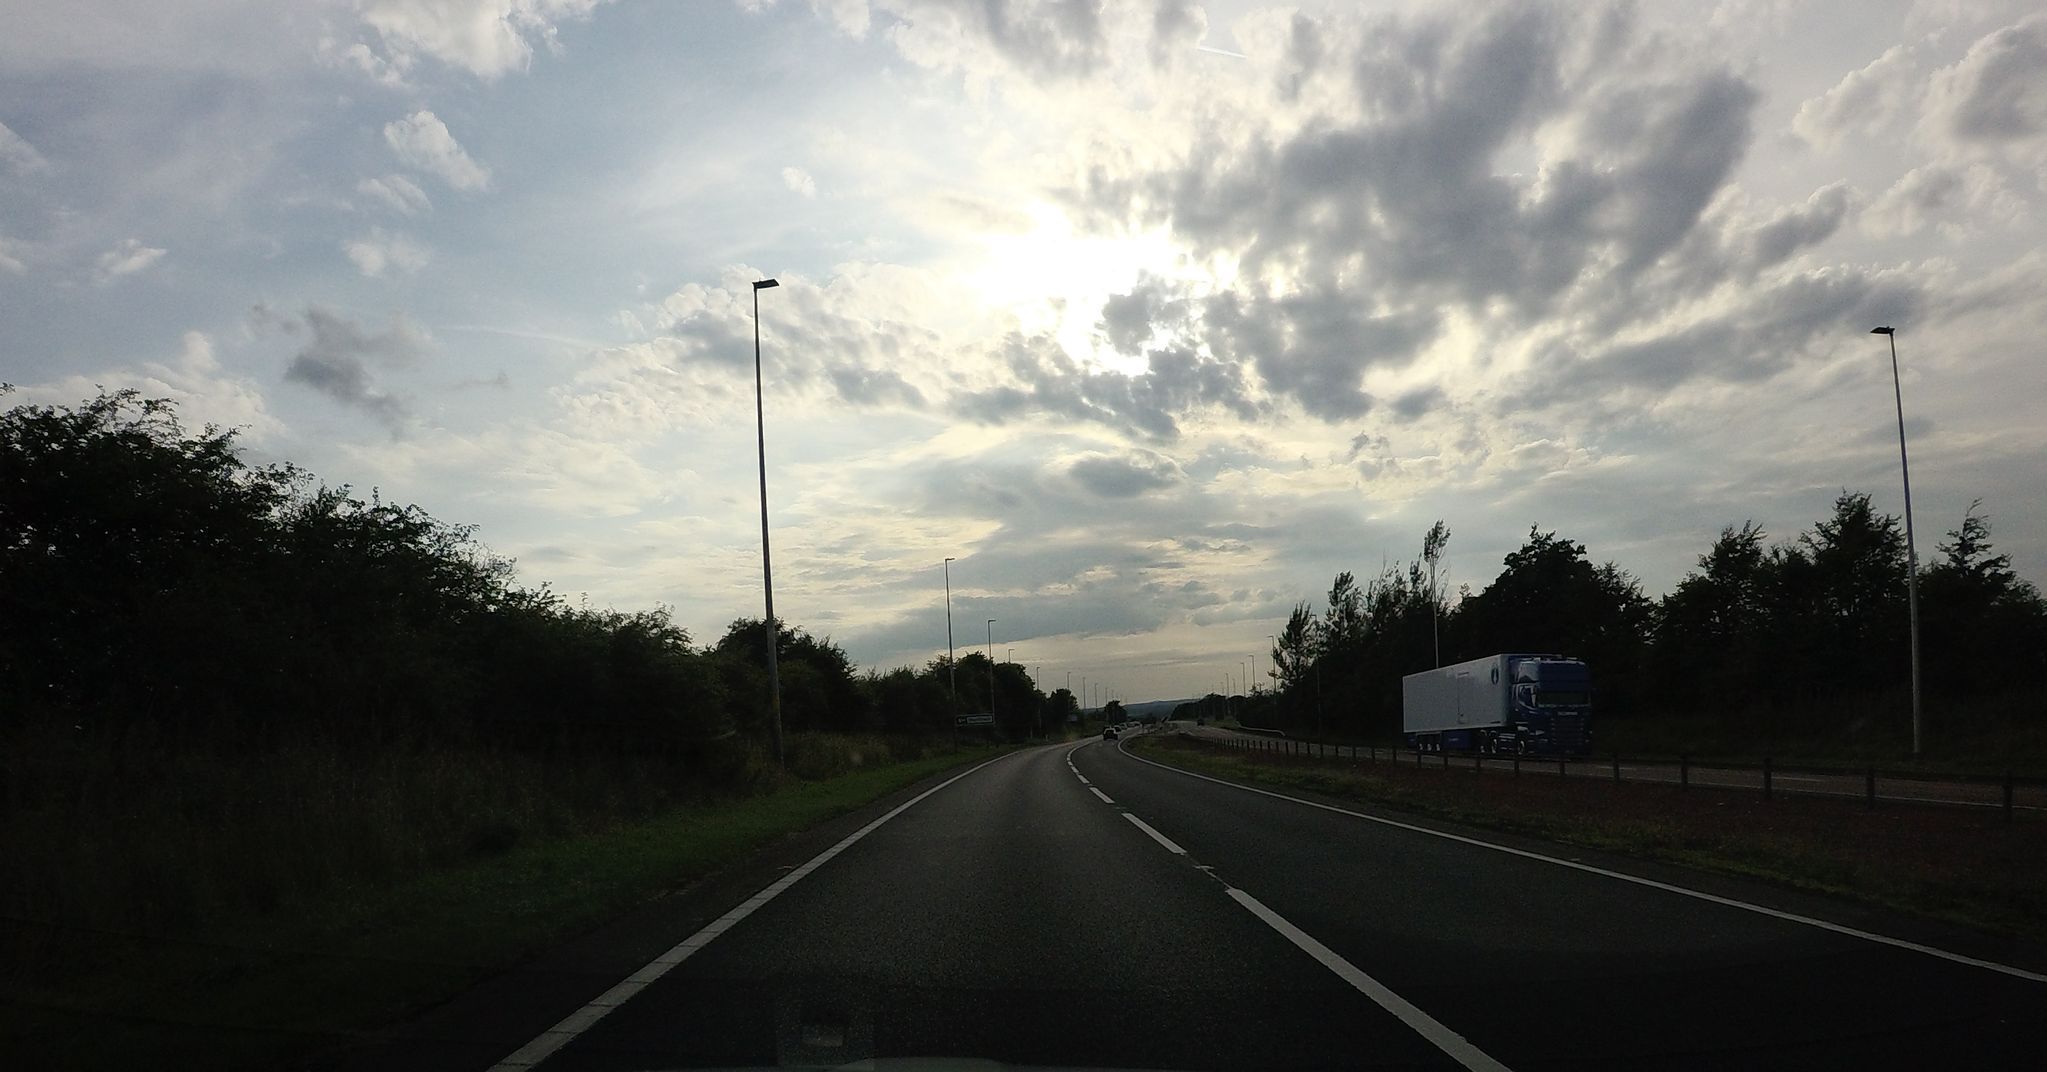truck: (1399, 651, 1592, 755)
